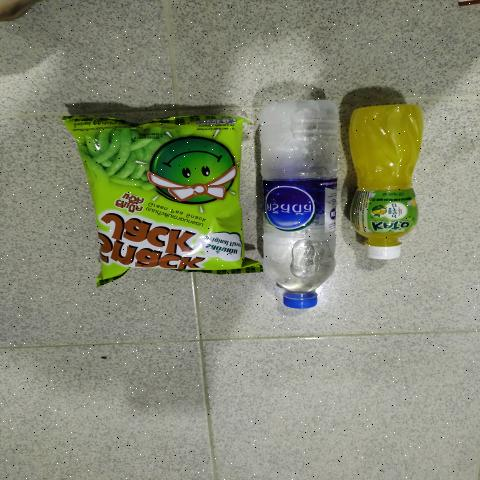crystal: (269, 104, 327, 286)
snack_jack: (97, 115, 242, 271)
